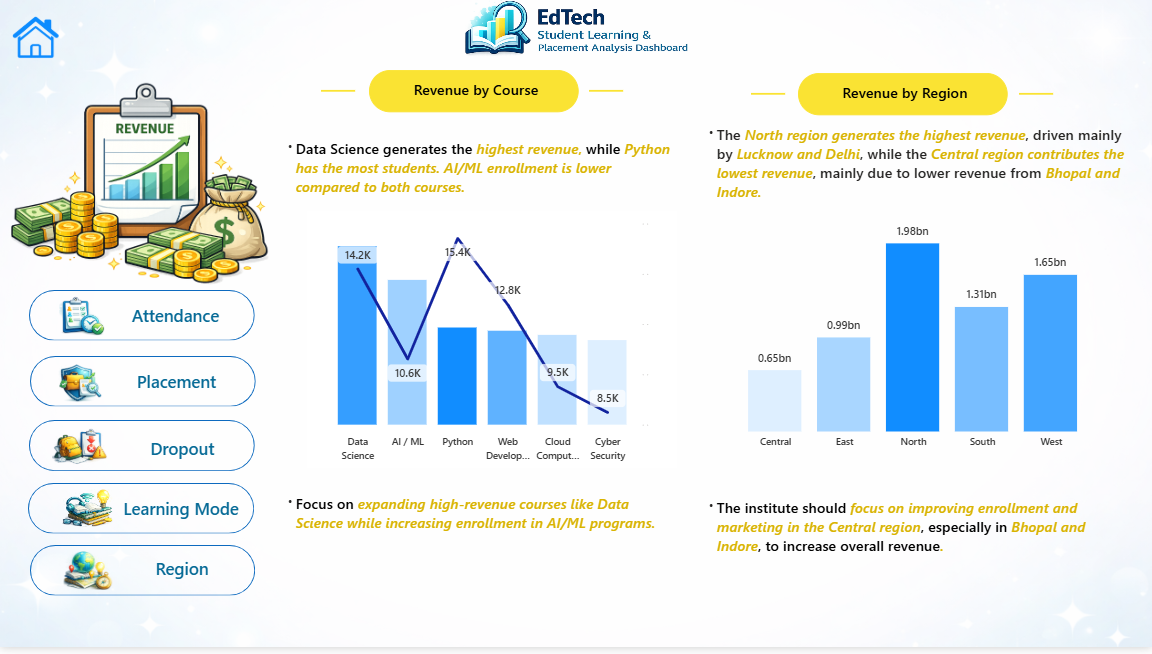

The page's visual inventory and layout, read from the dashboard file:
{"tool":"powerbi","page":{"name":"Revenue Page","canvas":[1280,720],"ordinal":4},"visuals":[{"type":"image","box":[387.5,0,505.4,68.3],"z":0},{"type":"image","box":[13.8,17.5,52.5,50],"z":1000},{"type":"textbox","box":[409.5,78.8,233.4,46.7],"z":2000},{"type":"shape","box":[654.6,72.9,37.9,57.4],"z":3000},{"type":"shape","box":[31,538.2,251.2,56.4],"z":3000,"group":"g2"},{"type":"shape","box":[357,72.9,37.9,57.4],"z":4000},{"type":"textbox","box":[129,548.7,144.5,39],"z":4000,"group":"g2"},{"type":"textbox","box":[886.8,82.1,233.4,46.7],"z":5000},{"type":"image","box":[66.2,545.1,62.7,43.2],"z":5000,"group":"g2"},{"type":"shape","box":[1131.9,76.3,37.9,57.4],"z":6000},{"type":"shape","box":[32.8,606.5,250.2,56.4],"z":6000,"group":"g3"},{"type":"shape","box":[834.3,76.3,37.9,57.4],"z":7000},{"type":"textbox","box":[129.2,614.1,144.5,39],"z":7000,"group":"g3"},{"type":"textbox","box":[773.2,548.9,483.3,86],"z":8000},{"type":"image","box":[66.3,612.9,62.7,43.2],"z":8000,"group":"g3"},{"type":"textbox","box":[305,149.9,453.1,78.9],"z":9000},{"type":"shape","box":[31.9,323.6,250.7,56.2],"z":10000},{"type":"textbox","box":[122.4,333.4,145.4,39],"z":11000},{"type":"image","box":[60.3,330.2,62.3,43.7],"z":12000},{"type":"shape","box":[32.8,396.4,250.7,56.2],"z":12000,"group":"g1"},{"type":"image","box":[12.4,51.4,285.5,308.6],"z":13000},{"type":"textbox","box":[122.5,405.9,145.4,39],"z":13000,"group":"g1"},{"type":"group","id":"g1","title":"Group 1","box":[32.8,396.4,250.9,56.7],"z":14000},{"type":"image","box":[56.9,405,62.3,43],"z":14000,"group":"g1"},{"type":"group","id":"g2","title":"Group 3","box":[31,538.2,251.8,56.7],"z":15000},{"type":"group","id":"g3","title":"Group 4","box":[32.8,606.5,250,56.7],"z":16000},{"type":"group","id":"g4","title":"Group 5","box":[31.9,467.3,250.9,56.7],"z":17000},{"type":"lineStackedColumnComboChart","fields":{"Category":["project students_data.Course_Name"],"Y":["project students_data.Total Revenue"],"Y2":["project students_data.Total Students"]},"box":[341.4,235.9,410.5,286.4],"z":18000},{"type":"textbox","box":[305,544.4,453.1,102],"z":19000},{"type":"clusteredColumnChart","fields":{"Y":["project students_data.Total Revenue"],"Category":["project students_data.Region Hierarchy.Region","project students_data.Region Hierarchy.City"]},"box":[795.4,235.9,438.9,274],"z":20000},{"type":"shape","box":[31.9,467.3,250.8,56.7],"z":20000,"group":"g4"},{"type":"textbox","box":[773.2,133.9,483.3,102],"z":21000},{"type":"textbox","box":[130.4,481,142.8,35.5],"z":21000,"group":"g4"},{"type":"image","box":[57.2,475.1,62.3,43.4],"z":22000,"group":"g4"}]}

Visuals, with their boxes in screenshot pixels (x1, y1, x2, y2), scaled from the page's 1280x720 canvas onto the 1152x654 screenshot:
image: 349:0:804:62
image: 12:16:60:61
textbox: 369:72:579:114
shape: 589:66:623:118
shape: 28:489:254:540
shape: 321:66:355:118
textbox: 116:498:246:534
textbox: 798:75:1008:117
image: 60:495:116:534
shape: 1019:69:1053:121
shape: 30:551:255:602
shape: 751:69:785:121
textbox: 116:558:246:593
textbox: 696:499:1131:577
image: 60:557:116:596
textbox: 274:136:682:208
shape: 29:294:254:345
textbox: 110:303:241:338
image: 54:300:110:340
shape: 30:360:255:411
image: 11:47:268:327
textbox: 110:369:241:404
"Group 1" group: 30:360:255:412
image: 51:368:107:407
"Group 3" group: 28:489:255:540
"Group 4" group: 30:551:255:602
"Group 5" group: 29:424:255:476
lineStackedColumnComboChart - project students_data.Course_Name x project students_data.Total Revenue: 307:214:677:474
textbox: 274:494:682:587
clusteredColumnChart - project students_data.Total Revenue x project students_data.Region Hierarchy.Region: 716:214:1111:463
shape: 29:424:254:476
textbox: 696:122:1131:214
textbox: 117:437:246:469
image: 51:432:108:471
